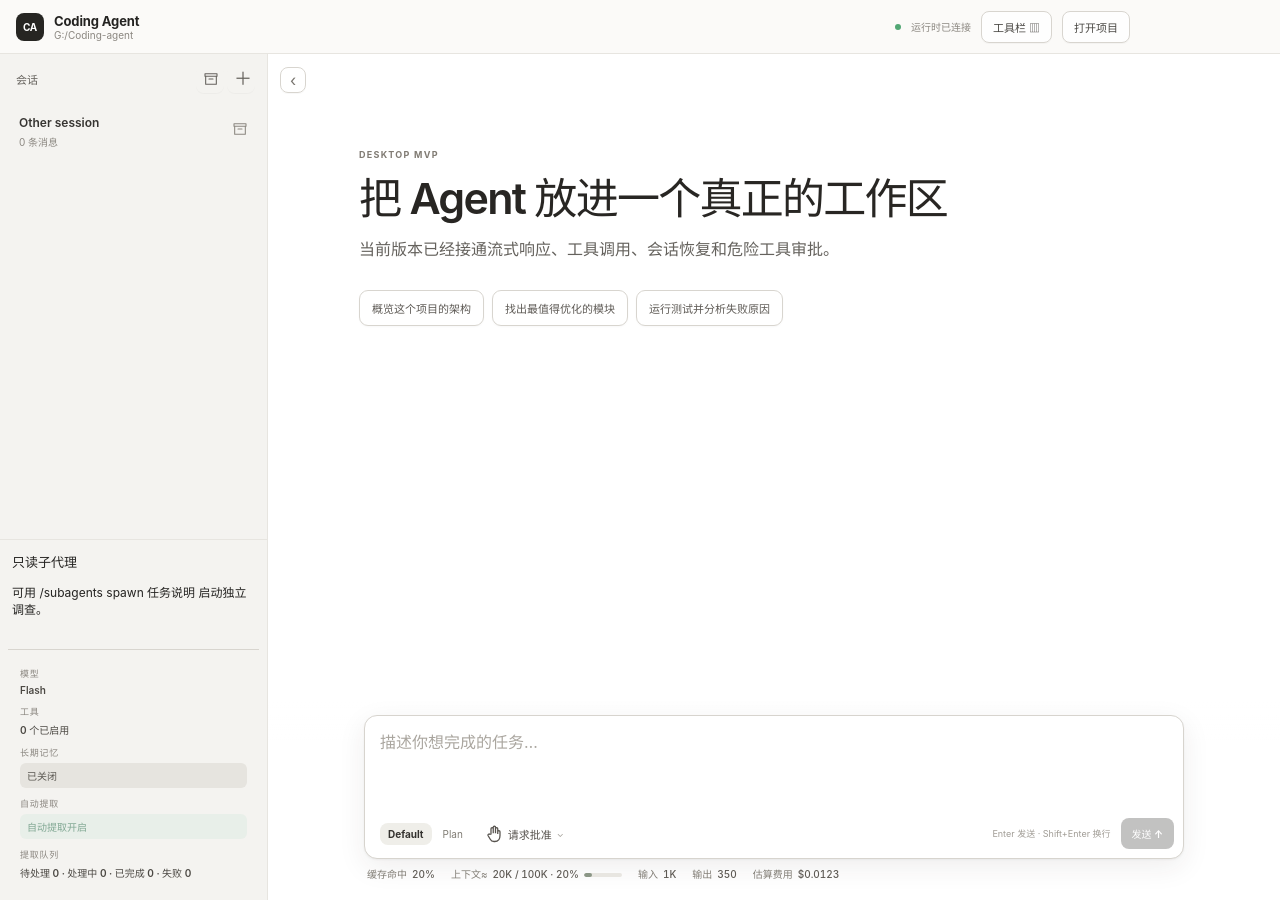
Test case: desktop authoritative session usage › refreshes /session usage without removing help or previous local session output
In the text box with placeholder "描述你想完成的任务…": [774, 762] box [365,716,1183,807], type "/help"
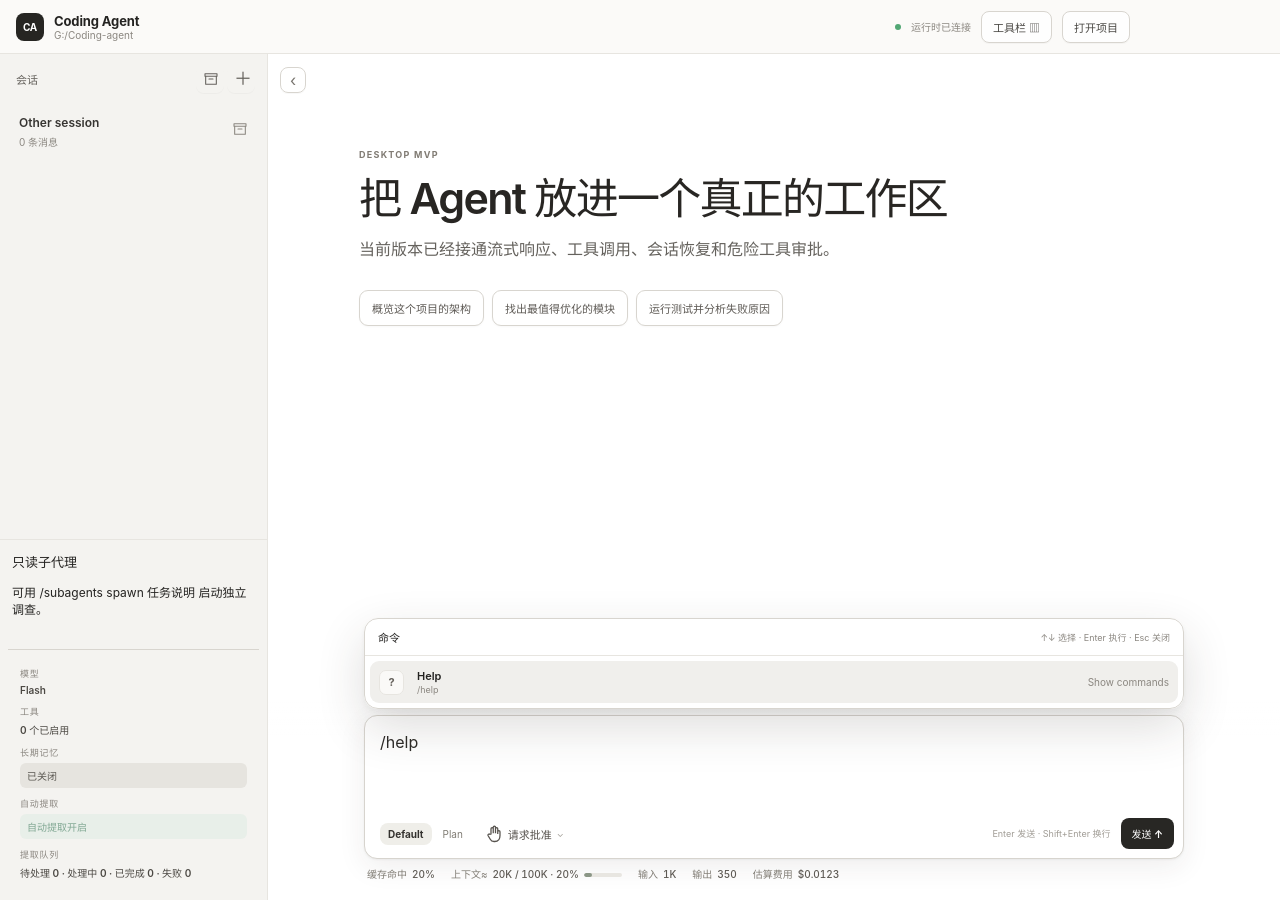
Submit the form with placeholder "描述你想完成的任务…", box [364,715,1184,859]
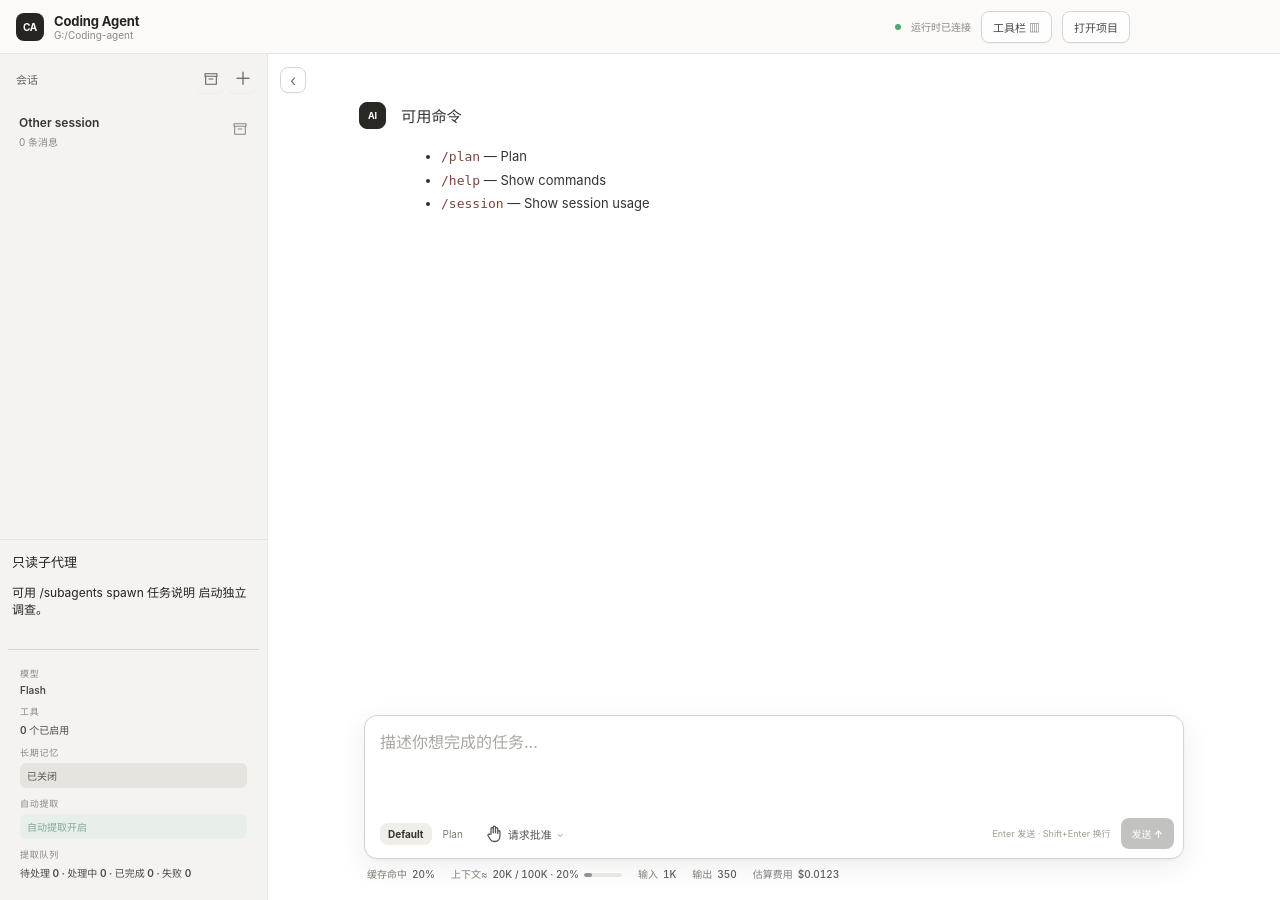
Check: the heading "可用命令" is shown, box [401,107,462,126]
In the text box with placeholder "描述你想完成的任务…": [774, 762] box [365,716,1183,807], type "/session"
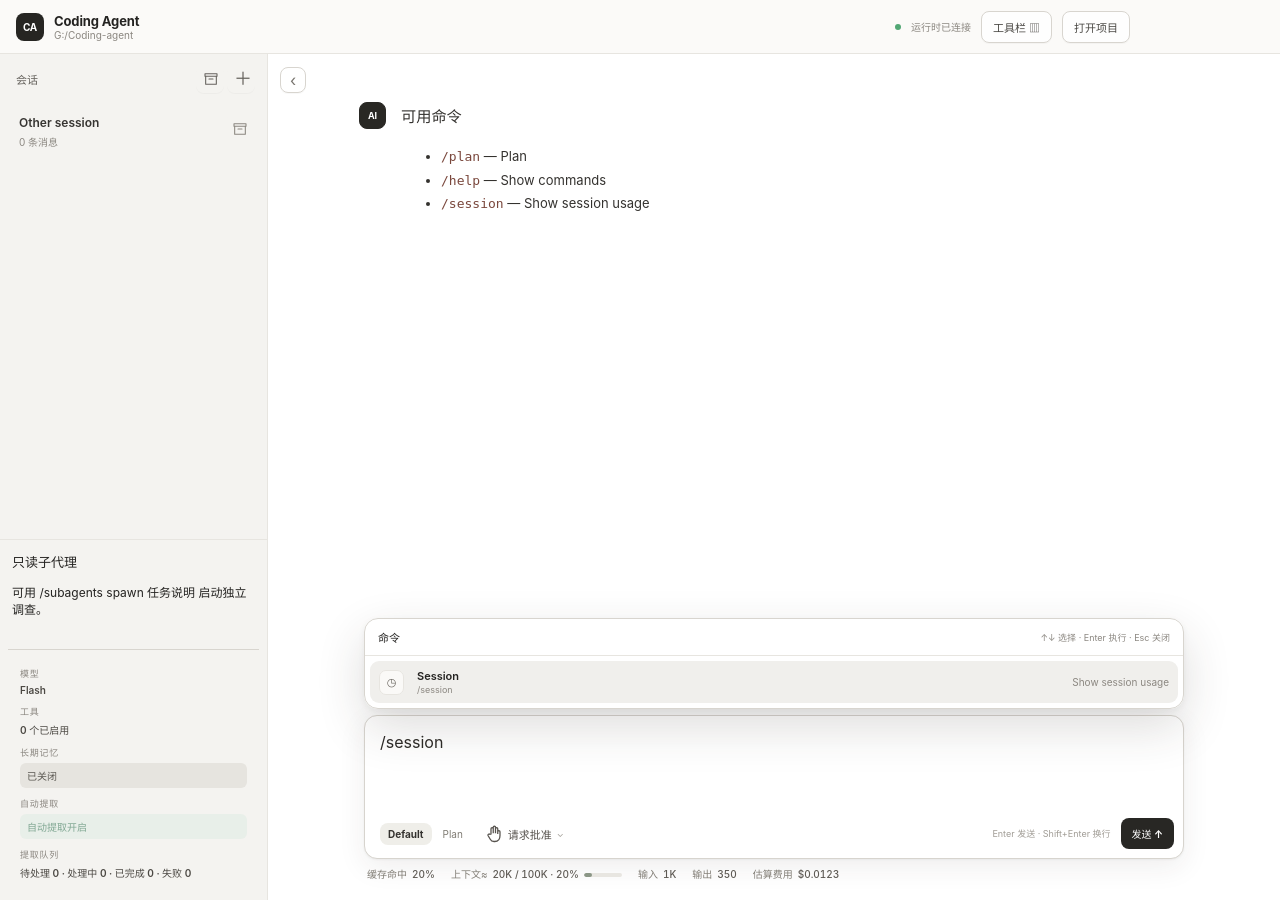
Submit the form with placeholder "描述你想完成的任务…", box [364,715,1184,859]
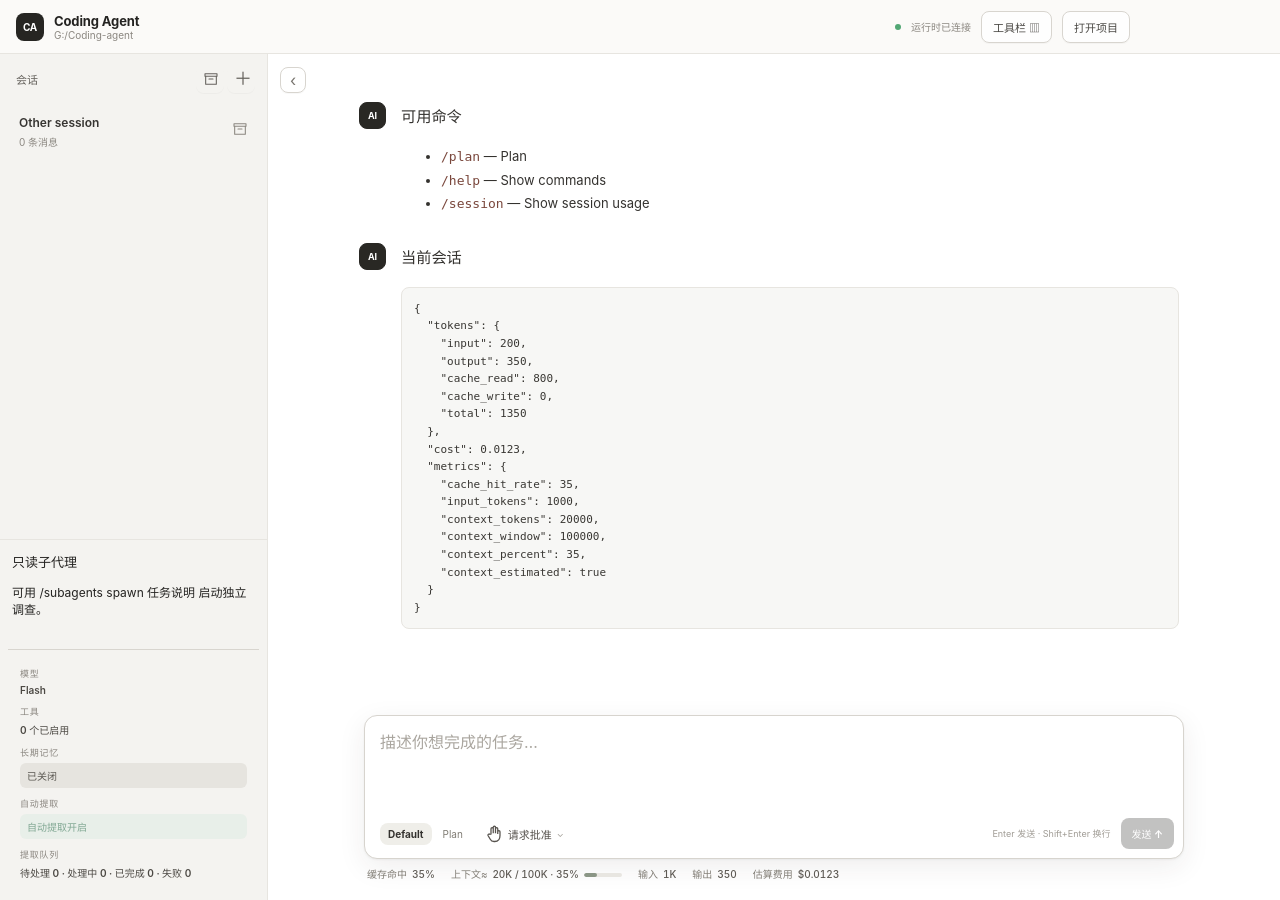
Check: the heading "可用命令" is shown, box [401,107,462,126]
Check: the heading "当前会话" is shown, box [401,248,462,267]
Check: the text with test id "cache-hit-rate" reads "35%", box [412,868,435,880]
In the text box with placeholder "描述你想完成的任务…": [774, 762] box [365,716,1183,807], type "/session"
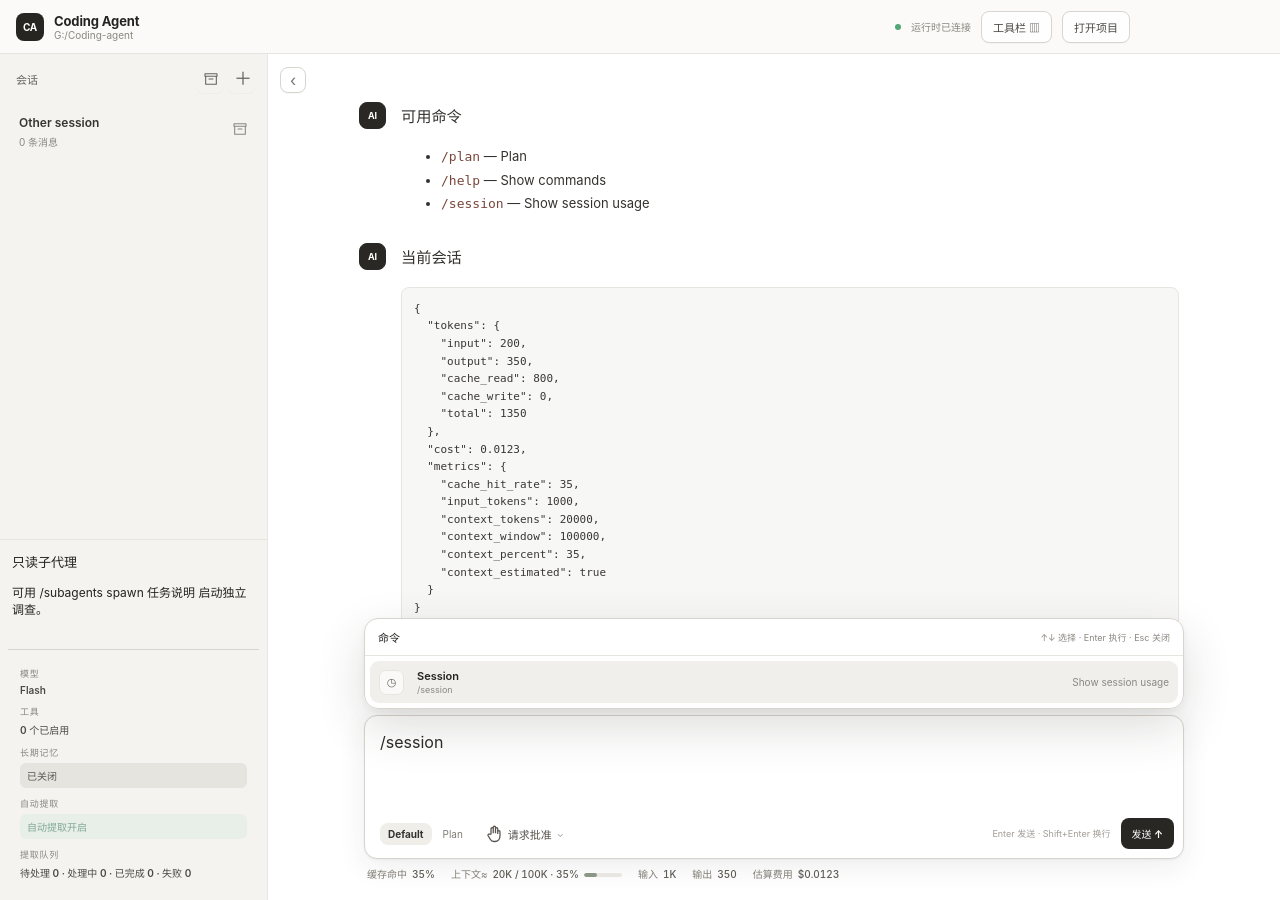
Submit the form with placeholder "描述你想完成的任务…", box [364,715,1184,859]
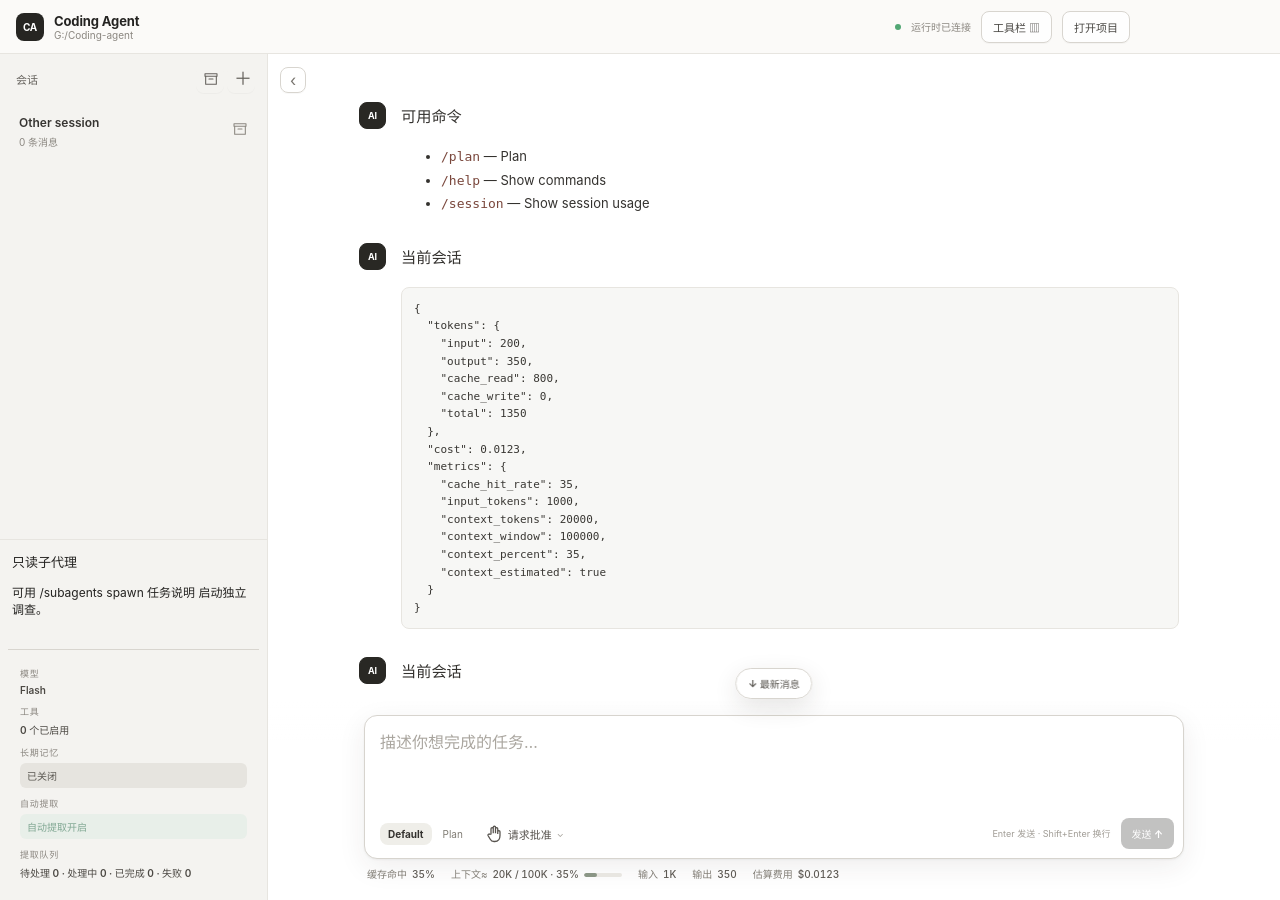
Check: the heading "可用命令" is shown, box [401,107,462,126]
Check: the number of headings "当前会话" is 2, box [401,248,462,267]; [401,662,462,682]
